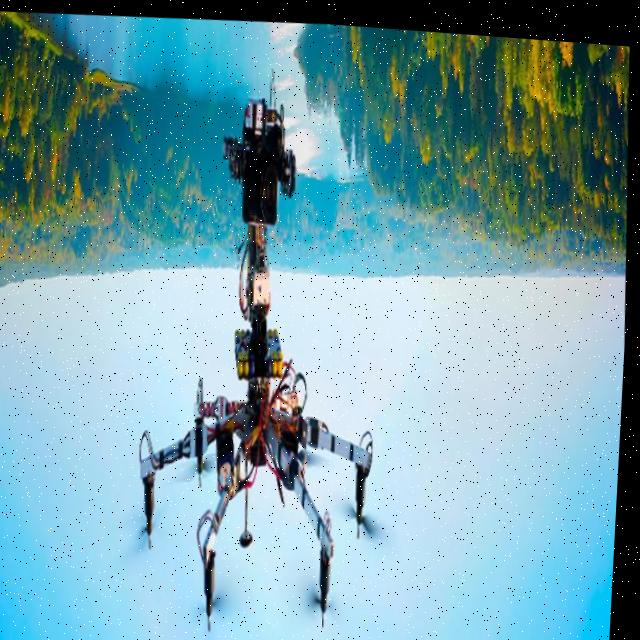drones: (107, 31, 415, 640)
